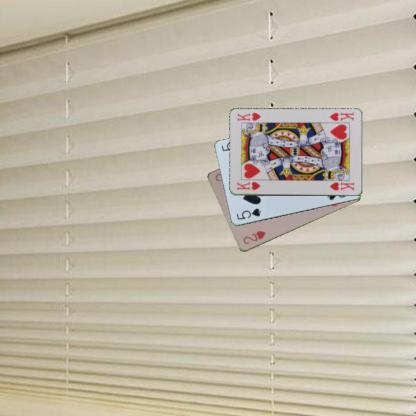2h: (240, 228, 267, 246)
5s: (233, 206, 262, 221)
Kh: (326, 110, 355, 122), (234, 180, 261, 191)
